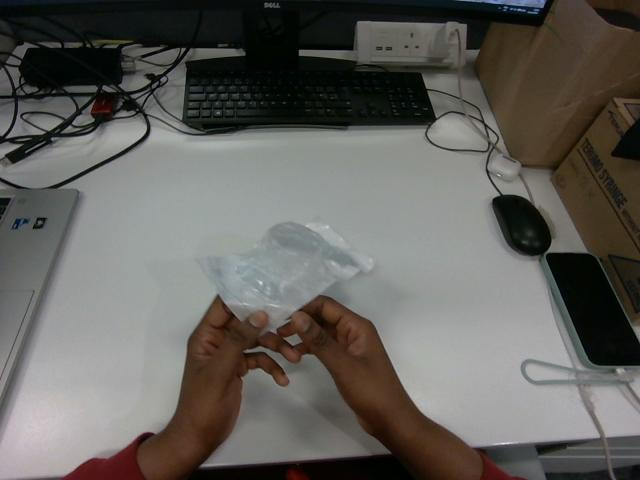gallipot: (199, 219, 372, 327)
